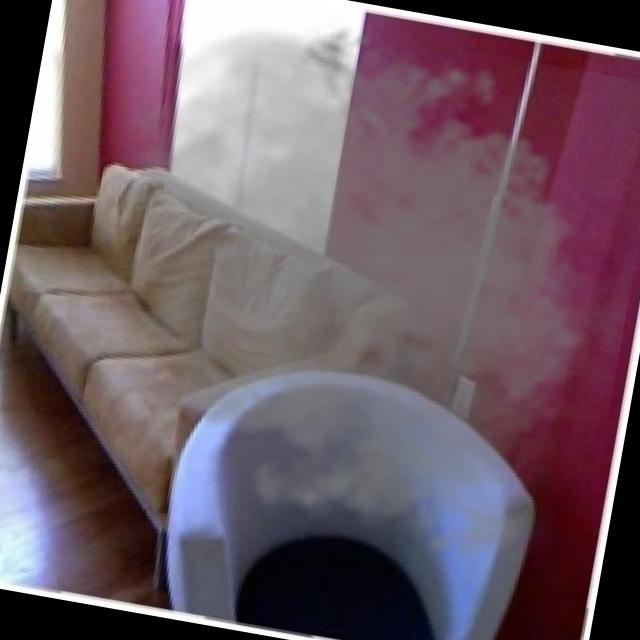Smoke: (31, 0, 640, 595)
